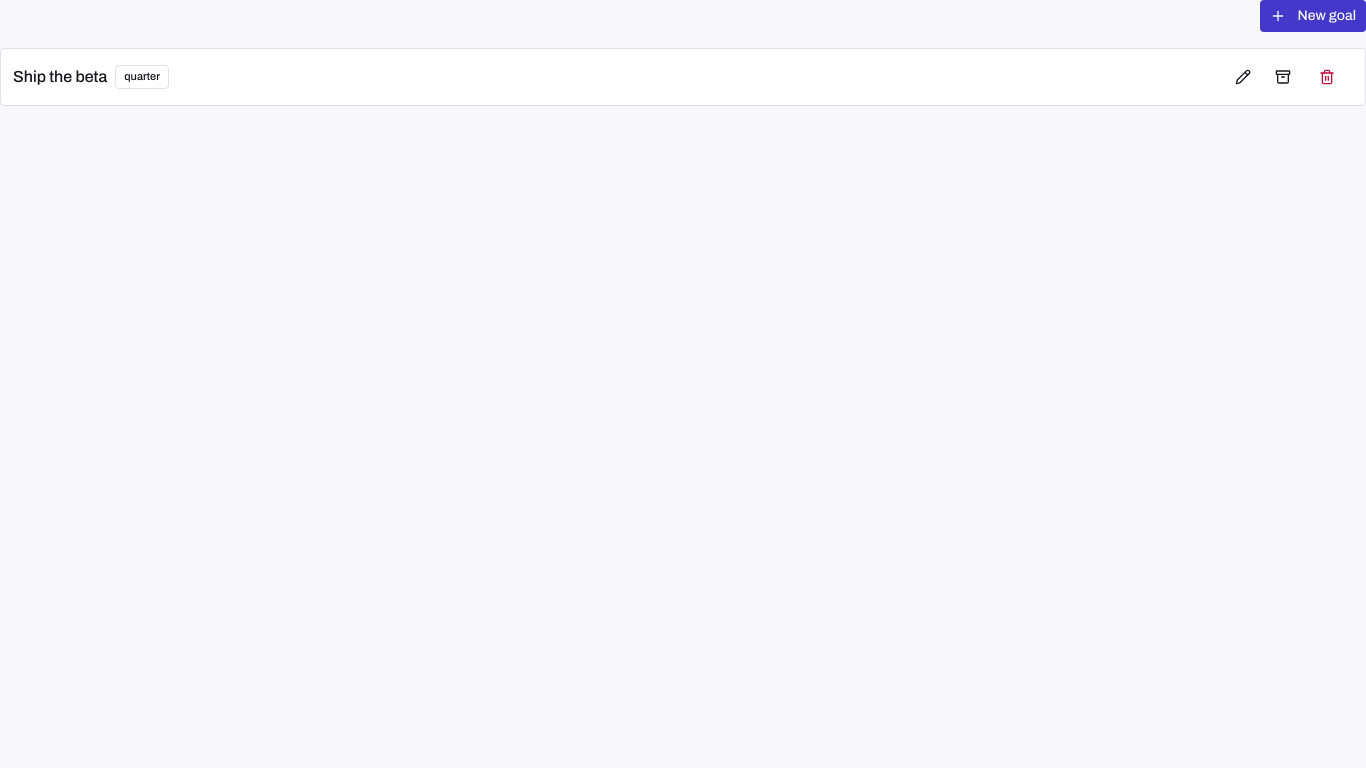
Test: GoalsView › opens the create dialog from the header "New goal" button
Step 1. Click the button "New goal" → (1313, 16), box [1260, 0, 1365, 32]
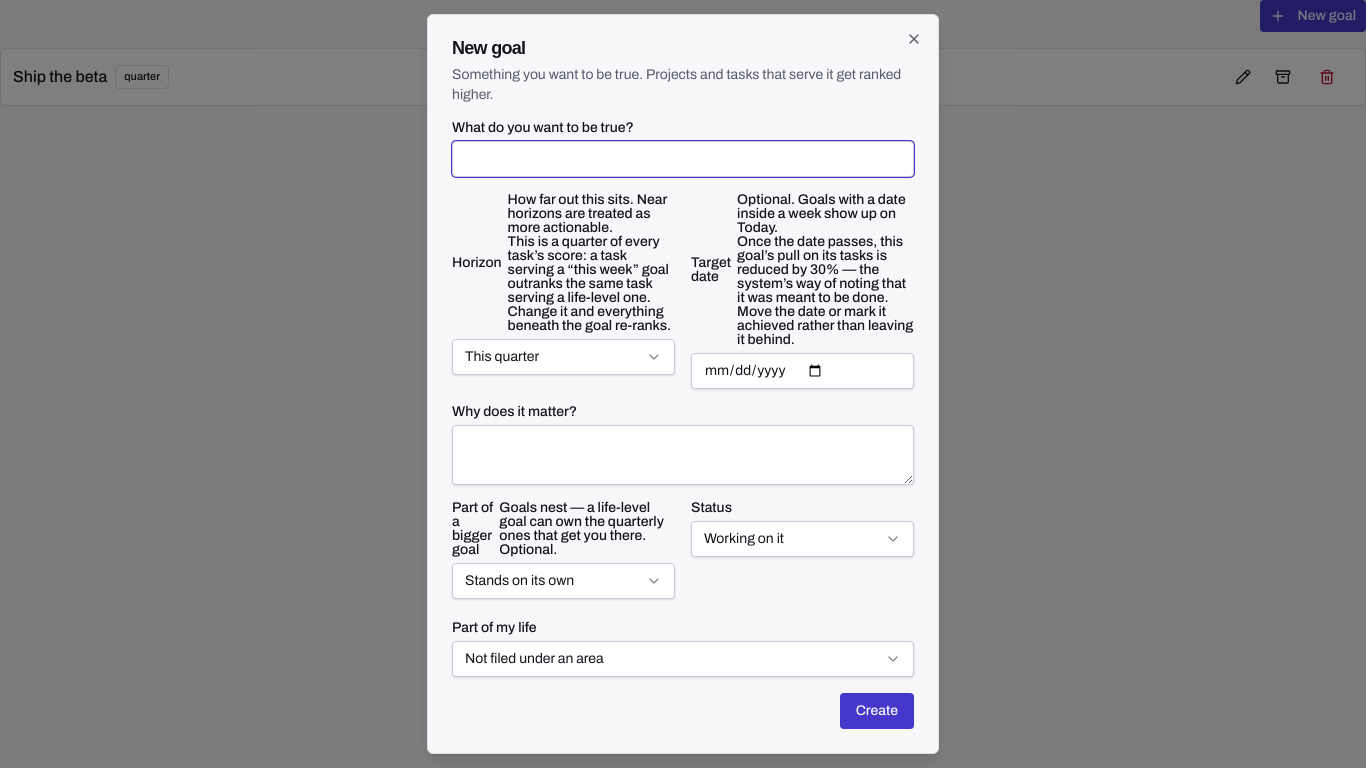
Expected: the heading "New goal" is shown, [452, 38, 525, 58]
